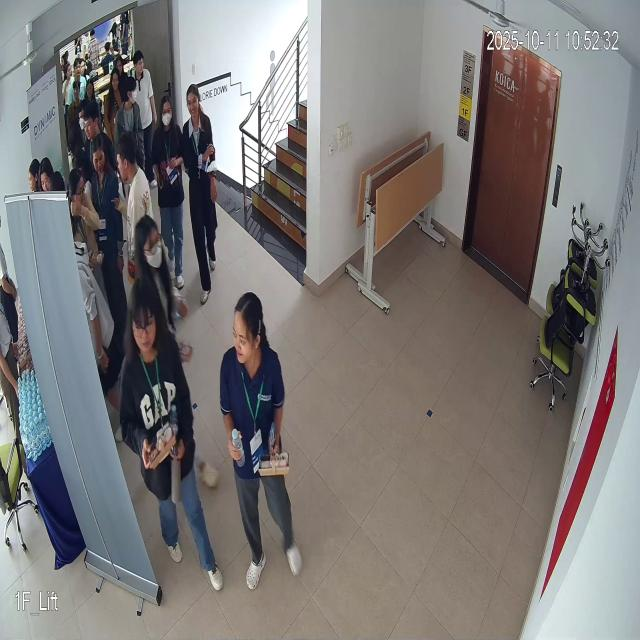face: (224, 278, 268, 375), (123, 271, 164, 359), (129, 214, 172, 278)
